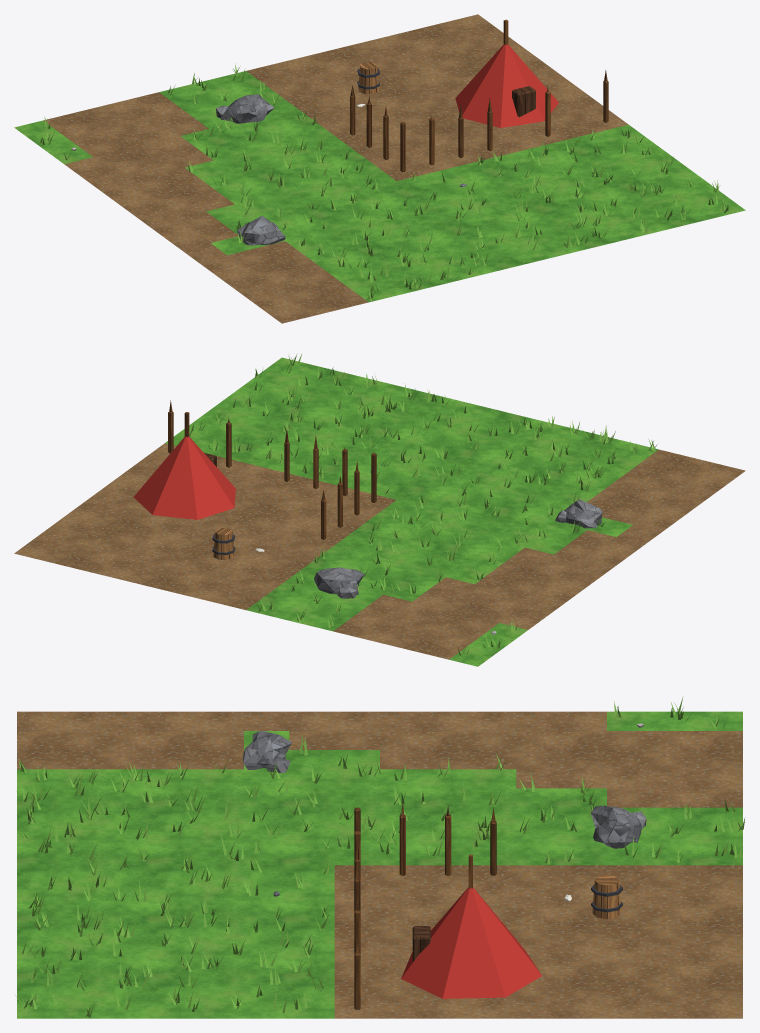
File: chunk_6_8.glb
3 renders of one model, top to bottom at view 1: azimuth 30°, elevation 25°; view 2: azimuth 150°, elevation 25°; view 3: azimuth 270°, elevation 25°, orthographic. The views are drawn at different scales.
Visible parts, largest first — view 1: chunk_6_8; view 2: chunk_6_8; view 3: chunk_6_8.
Part boxes in pixels (bbox=[...]): chunk_6_8: bbox=[14, 14, 745, 323]; chunk_6_8: bbox=[14, 354, 745, 666]; chunk_6_8: bbox=[15, 696, 745, 1018].
Size of the model in its own units: 16.03 by 3.19 by 16.13.
11 materials, 7 textured.
